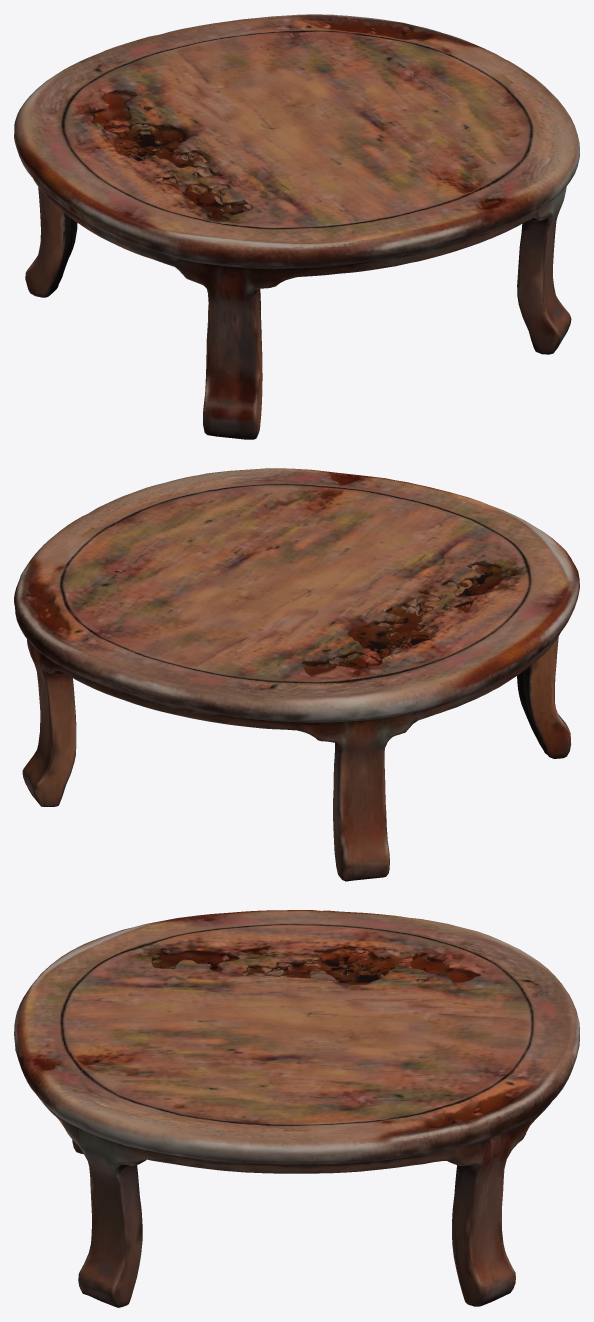
The picture shows the model from 3 angles, top to bottom: view 1: azimuth 30°, elevation 25°; view 2: azimuth 150°, elevation 25°; view 3: azimuth 270°, elevation 25°; orthographic projection. The views are drawn at different scales.
Visible parts, largest first — view 1: Mesh_0; view 2: Mesh_0; view 3: Mesh_0.
Boxes of the visible parts, x1,y1,x2,y2 form: Mesh_0: (14, 14, 579, 439); Mesh_0: (14, 468, 579, 881); Mesh_0: (14, 910, 579, 1307).
Size of the model in its own units: 0.9746 by 0.39 by 0.9756.
1 material, 1 textured.
